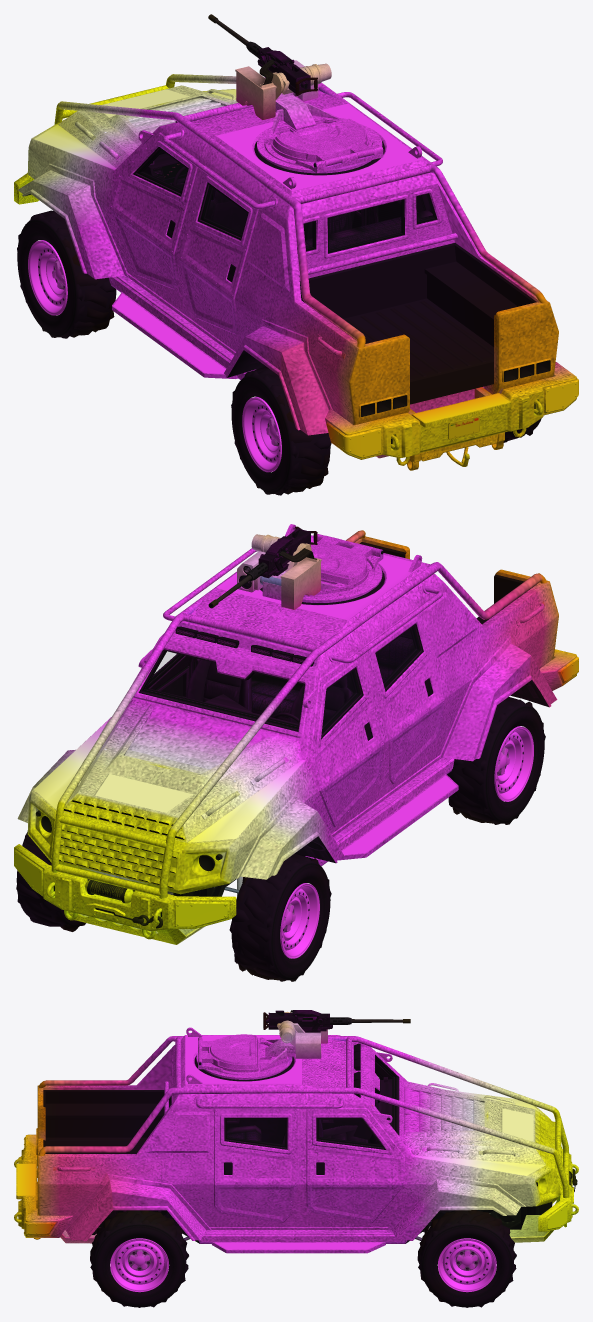
The model's file is insurgent3.glb.
The picture shows the model from 3 angles, top to bottom: view 1: azimuth 30°, elevation 25°; view 2: azimuth 150°, elevation 25°; view 3: azimuth 270°, elevation 25°; orthographic projection. The views are drawn at different scales.
Visible parts, largest first — view 1: bodyshell, wheel_lr, wheel_lf, door_dside_f, door_dside_r, chassis, boot, misc_d, windscreen_r, turret_1base, misc_e, misc_c (+3 smaller); view 2: bodyshell, wheel_lf, chassis, wheel_lr, door_dside_f, door_dside_r, misc_d, boot, wheel_rf, misc_e, turret_1base, window_lr (+2 smaller); view 3: bodyshell, door_pside_f, door_pside_r, wheel_rr, wheel_rf, chassis, boot, misc_e, window_rr, window_rf, misc_d, turret_1base (+3 smaller).
Part boxes in pixels (box(x1,y1,x2,y2)): bodyshell: box(14, 74, 578, 470); wheel_lr: box(231, 367, 331, 495); wheel_lf: box(17, 210, 116, 338); door_dside_f: box(109, 132, 198, 289); door_dside_r: box(179, 165, 258, 334); chassis: box(25, 151, 550, 416); boot: box(271, 118, 374, 166); misc_d: box(235, 59, 331, 120); windscreen_r: box(327, 199, 404, 253); turret_1base: box(257, 120, 383, 173); misc_e: box(208, 14, 317, 95); misc_c: box(266, 92, 346, 140); bodyshell: box(14, 524, 578, 944); wheel_lf: box(229, 853, 331, 981); chassis: box(36, 629, 548, 928); wheel_lr: box(447, 697, 545, 824); door_dside_f: box(310, 651, 383, 827); door_dside_r: box(364, 606, 444, 784); misc_d: box(237, 534, 321, 609); boot: box(311, 535, 373, 587); wheel_rf: box(16, 832, 85, 931); misc_e: box(208, 526, 317, 608); turret_1base: box(302, 533, 383, 602); window_lr: box(376, 626, 420, 687); bodyshell: box(14, 1027, 578, 1253); door_pside_f: box(306, 1108, 404, 1222); door_pside_r: box(214, 1108, 299, 1222); wheel_rr: box(90, 1210, 188, 1307); wheel_rf: box(417, 1210, 516, 1307); chassis: box(92, 1056, 577, 1243); boot: box(198, 1034, 258, 1072); misc_e: box(263, 1010, 410, 1032); window_rr: box(226, 1119, 286, 1147); window_rf: box(317, 1119, 382, 1147); misc_d: box(277, 1010, 327, 1058); turret_1base: box(196, 1037, 292, 1079).
Size of the model in its own units: 2.55 by 3.1 by 6.31.
Materials: 23 (23 with a texture image).
